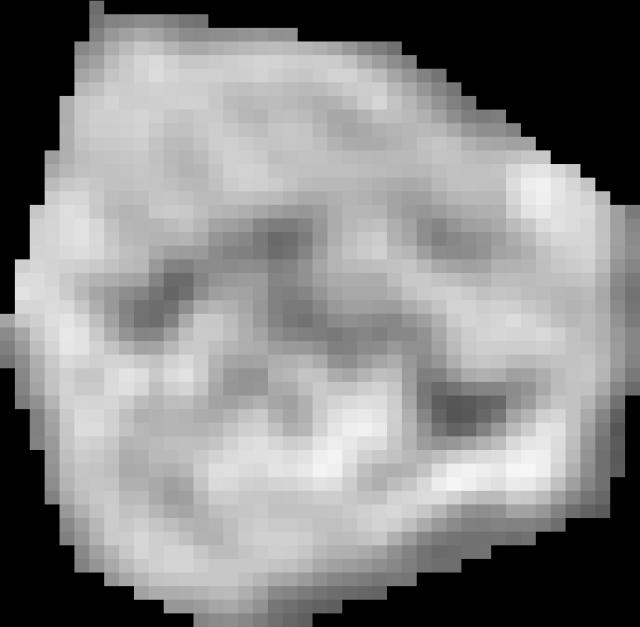tumor_good_chance: (0, 1, 640, 627)
